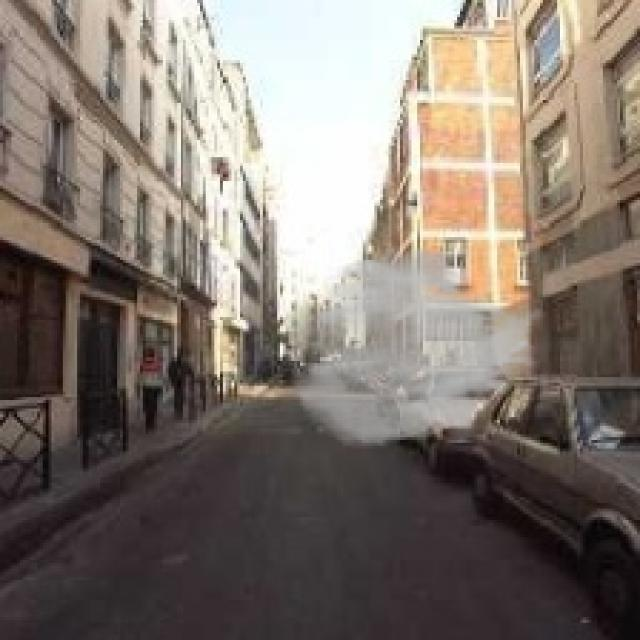smoke: (292, 243, 548, 448)
